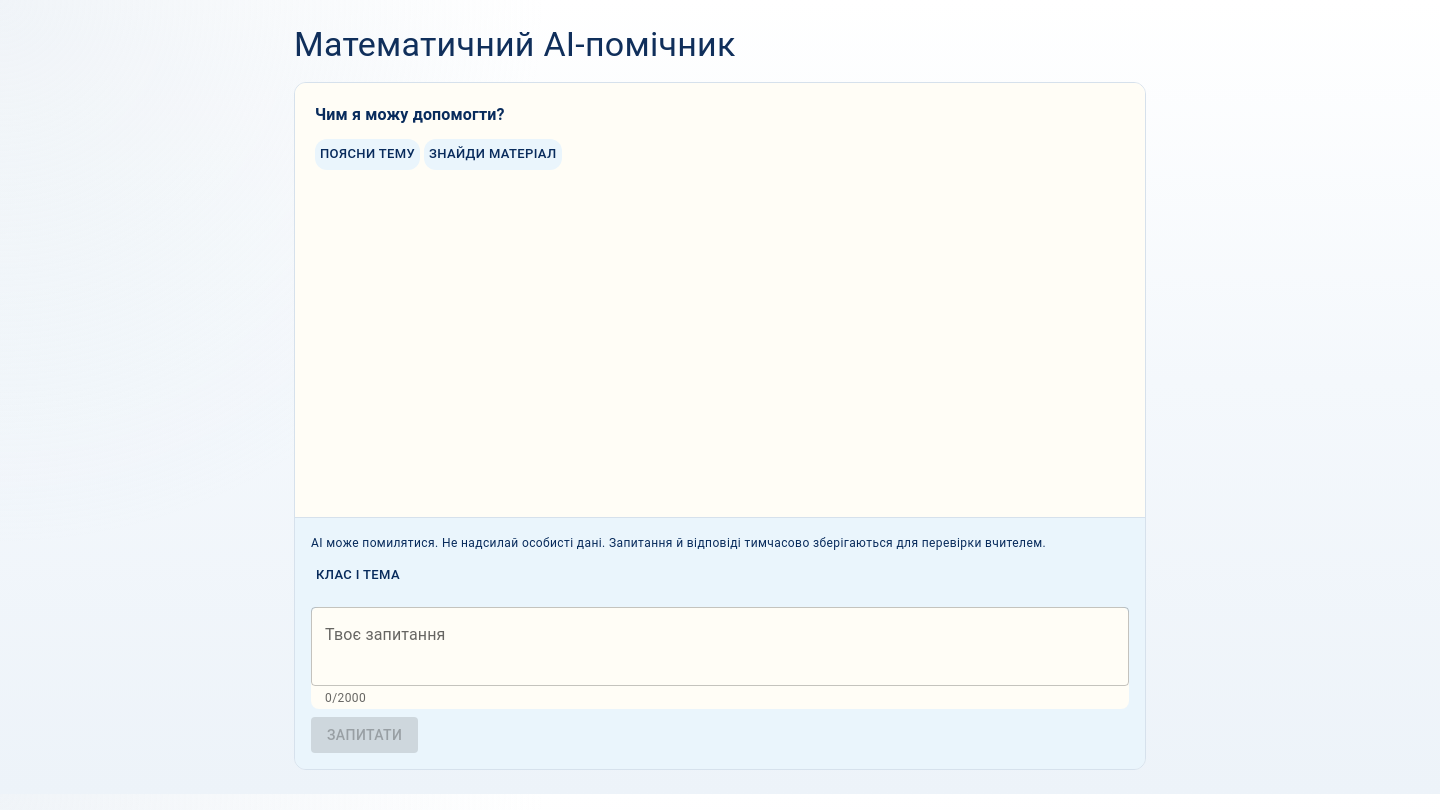
AssistantPage › still submits free-text requests: Дай мені завдання з дробами
In the text box labelled "Твоє запитання": (720, 647) [325, 624, 1115, 670], type "Дай мені завдання з дробами"
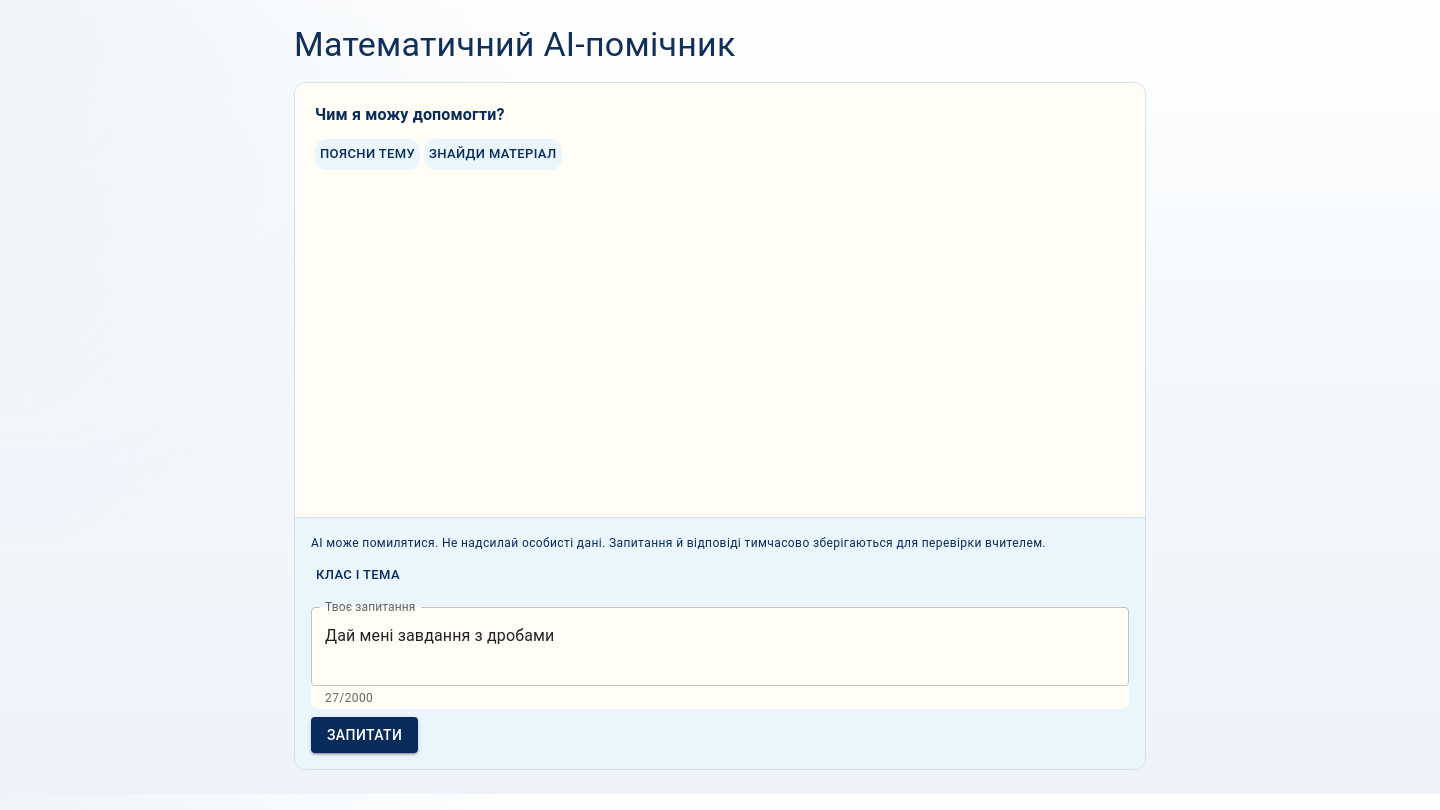
Click the button "Запитати": (365, 735) [311, 717, 418, 754]
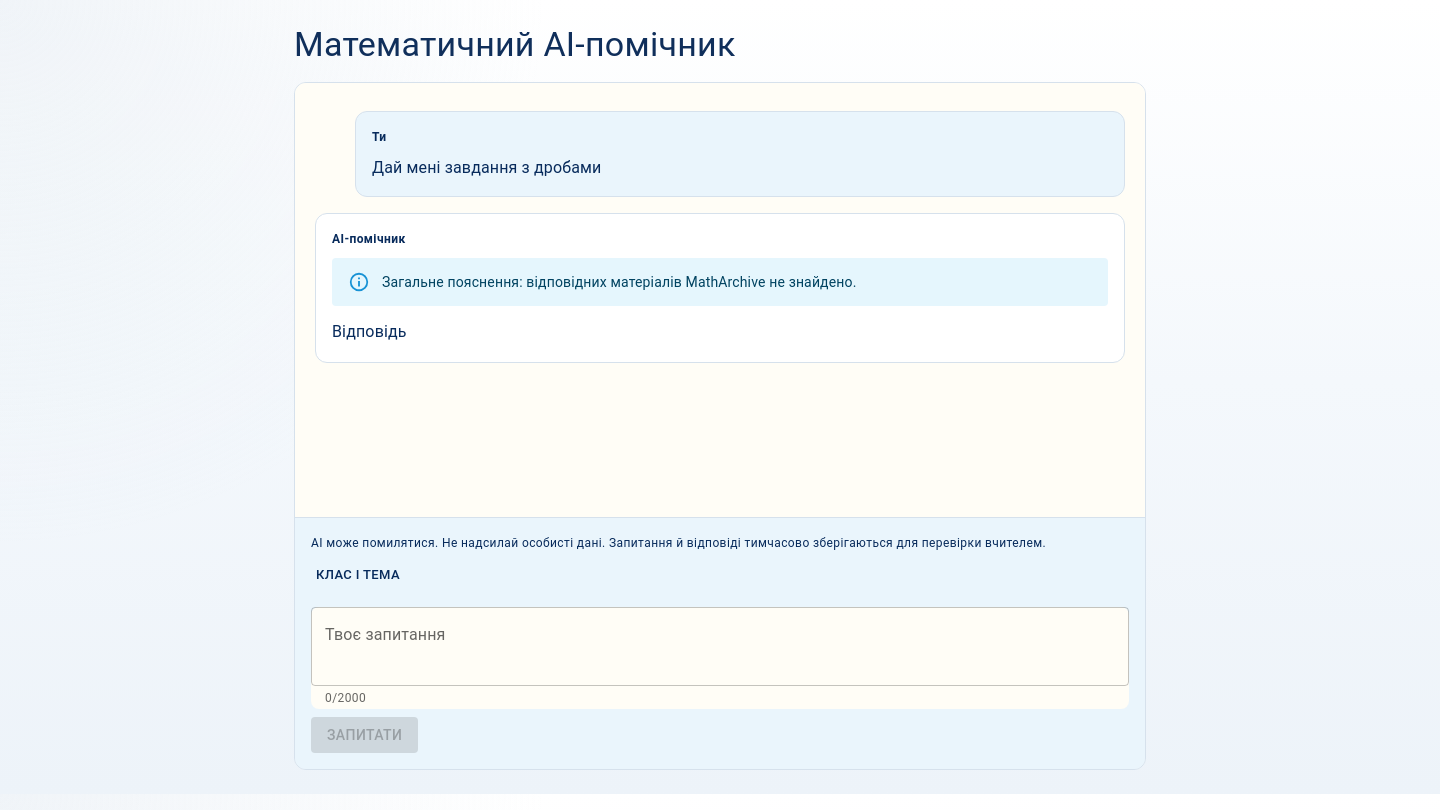
Result: the text "Відповідь" is shown at [332, 322, 407, 341]
